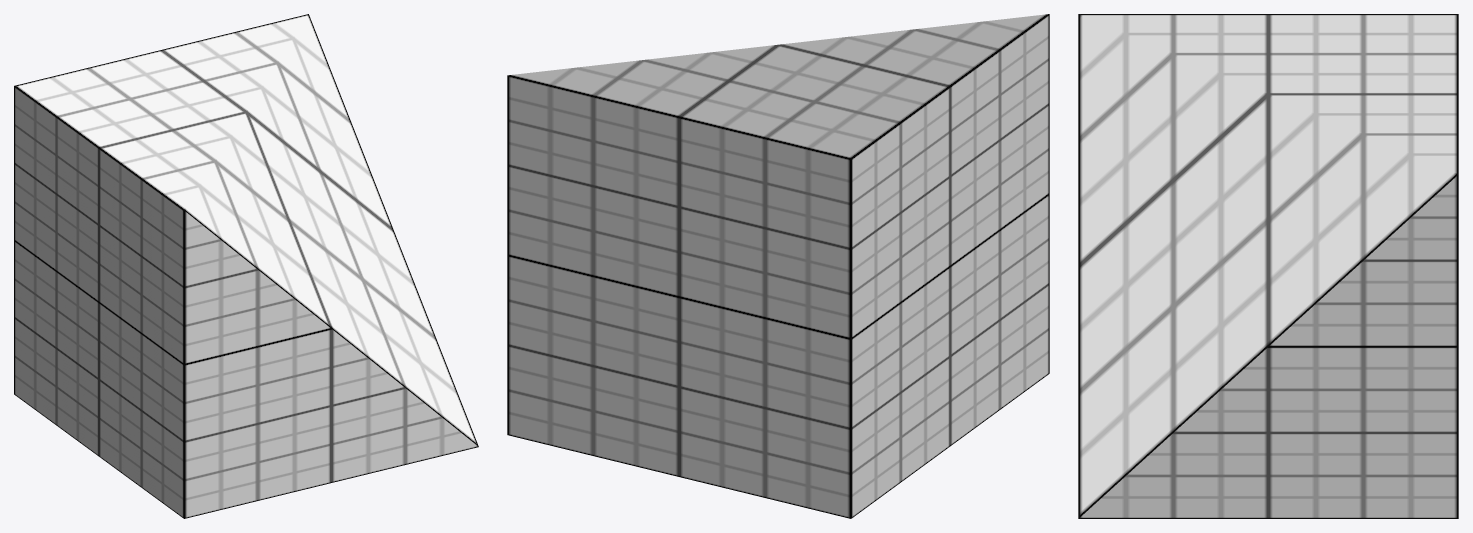
The model's file is steep-diag-slope-large.fbx.
3 renders of one model, left to right at view 1: azimuth 30°, elevation 25°; view 2: azimuth 150°, elevation 25°; view 3: azimuth 270°, elevation 25°, orthographic. The views are drawn at different scales.
Parts seen in each view (by area): view 1: Yplus, Xminus, Zplus; view 2: Zminus, Xminus, Yplus; view 3: Yplus, Xplus.
Part boxes in pixels (x1,y1,x2,y2): Yplus: (14,14,478,446); Xminus: (14,86,184,518); Zplus: (184,211,478,518); Zminus: (507,75,850,518); Xminus: (851,14,1049,518); Yplus: (508,14,1048,158); Yplus: (1078,14,1458,518); Xplus: (1079,175,1458,518).
Bounding box in the file's own units: 100 × 100 × 100.
